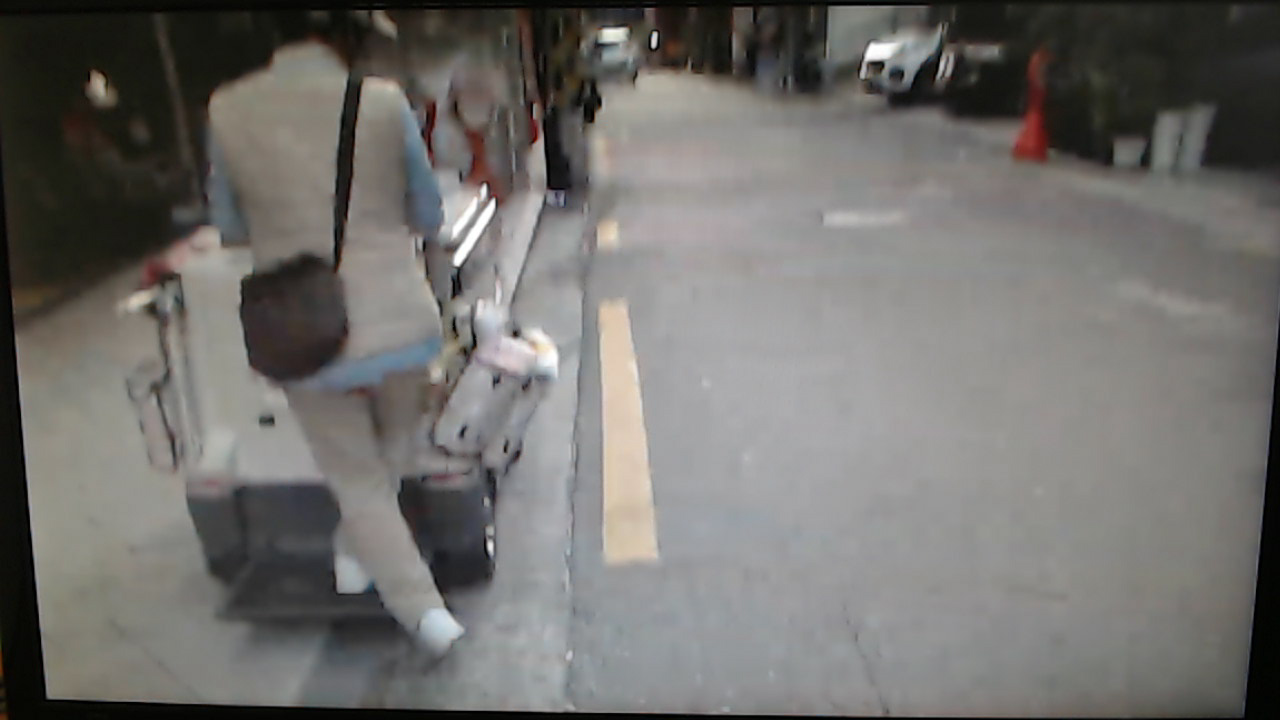Yakurut: (190, 10, 532, 679)
